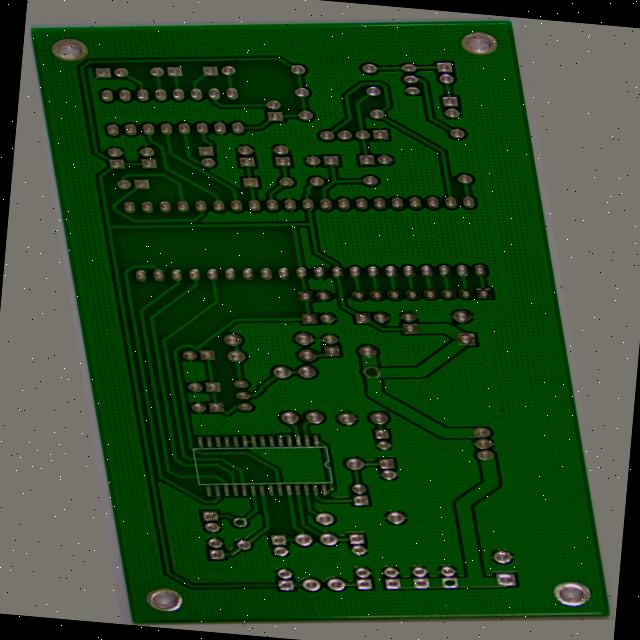missing_hole: (356, 371, 386, 388), (145, 511, 172, 526), (396, 601, 422, 616)
